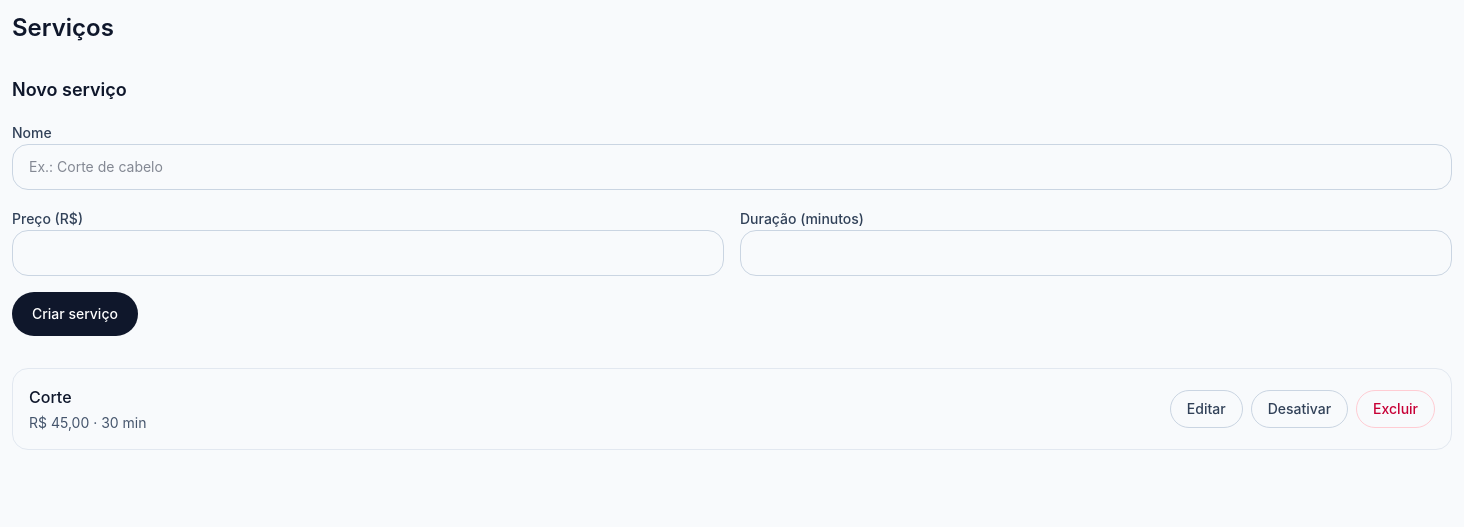
it: services manager (mounted, injected fetch deps) › shows the deactivate guidance when deleting a service conflicts (409 SERVICE_IN_USE)
Click the button "Excluir": [1396, 409] box [1356,390,1435,428]
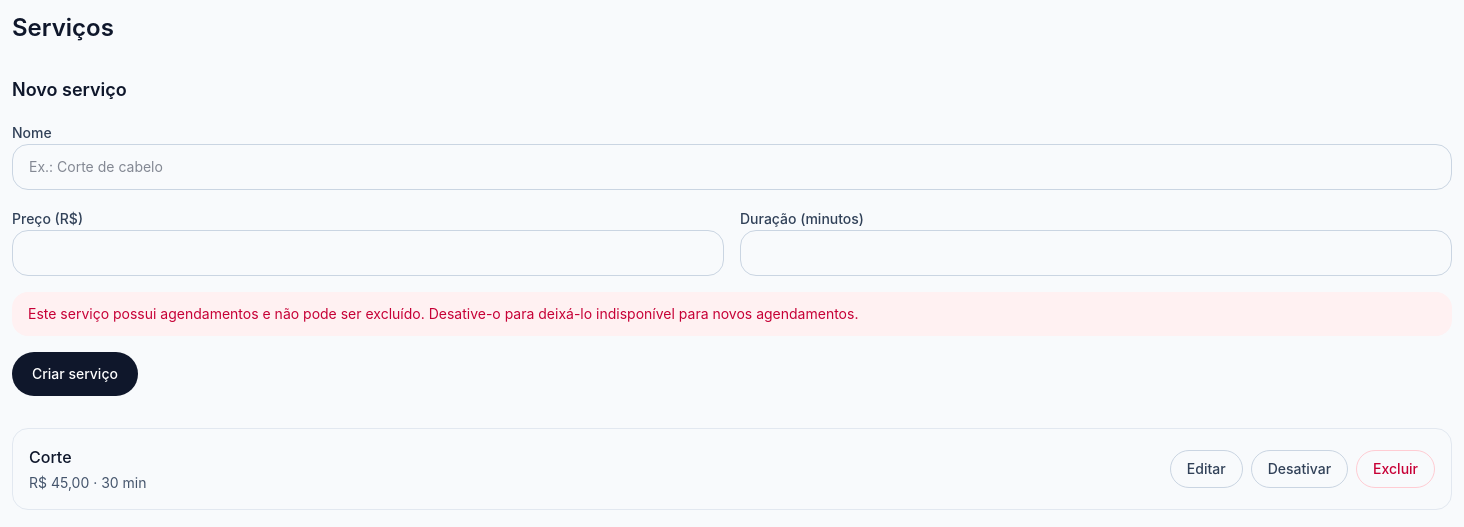
Expected: the text "Este serviço possui agendamentos e não pode ser excluído. Desative-o para deixá-lo indisponível para novos agendamentos." is shown, [28,305,858,322]
